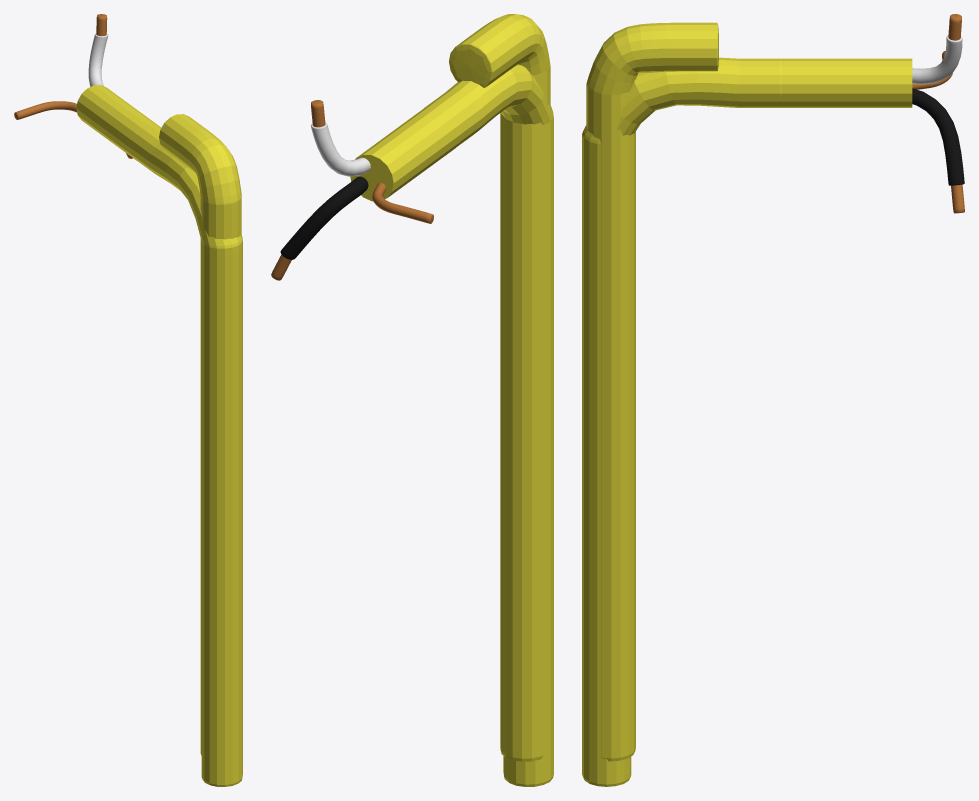
Rendered from WirebendSet.fbx.
3 views of the same model, side by side, from view 1: azimuth 30°, elevation 25°; view 2: azimuth 150°, elevation 25°; view 3: azimuth 270°, elevation 25° (orthographic). The views are drawn at different scales.
Parts seen in each view (by area): view 1: WireExposed, Wire90; view 2: Wire90, WireExposed; view 3: WireExposed, Wire90.
Boxes of the visible parts, x1,y1,x2,y2 form: WireExposed: (14,14,242,786); Wire90: (159,114,241,755); Wire90: (449,14,550,761); WireExposed: (271,64,553,786); WireExposed: (582,14,964,786); Wire90: (586,22,718,761).
Size of the model in its own units: 2.02 by 10 by 4.47.
